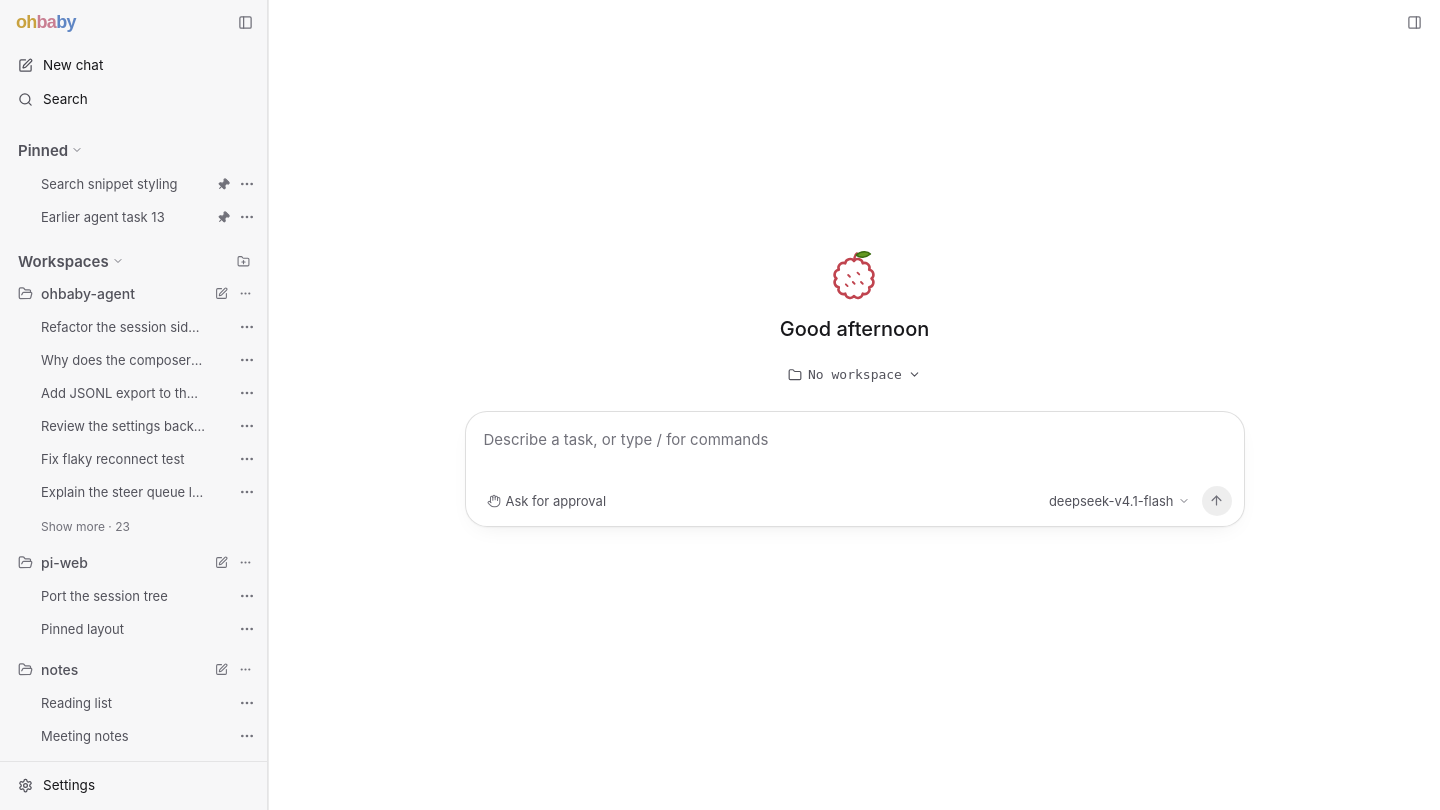
settings dialog › opens chat search with ctrlKey+K after settings closes
What coordinates should you click on to do the following:
click the button "Settings"
I would click on:
 (134, 785)
Its box is [8, 768, 259, 802].
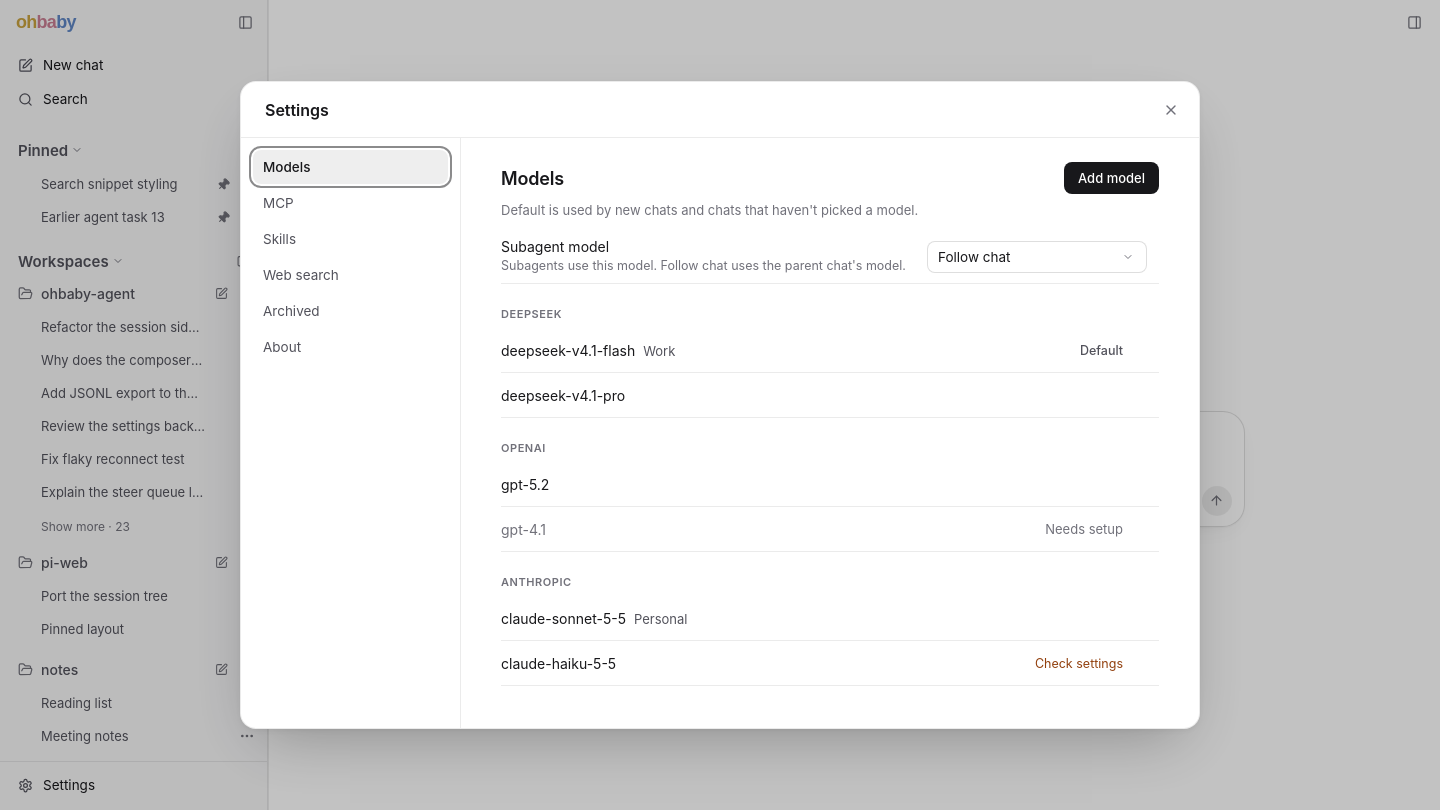
What coordinates should you click on to do the following:
click the button named "Close settings"
I would click on:
 (1171, 110)
Its box is [1157, 96, 1185, 124].
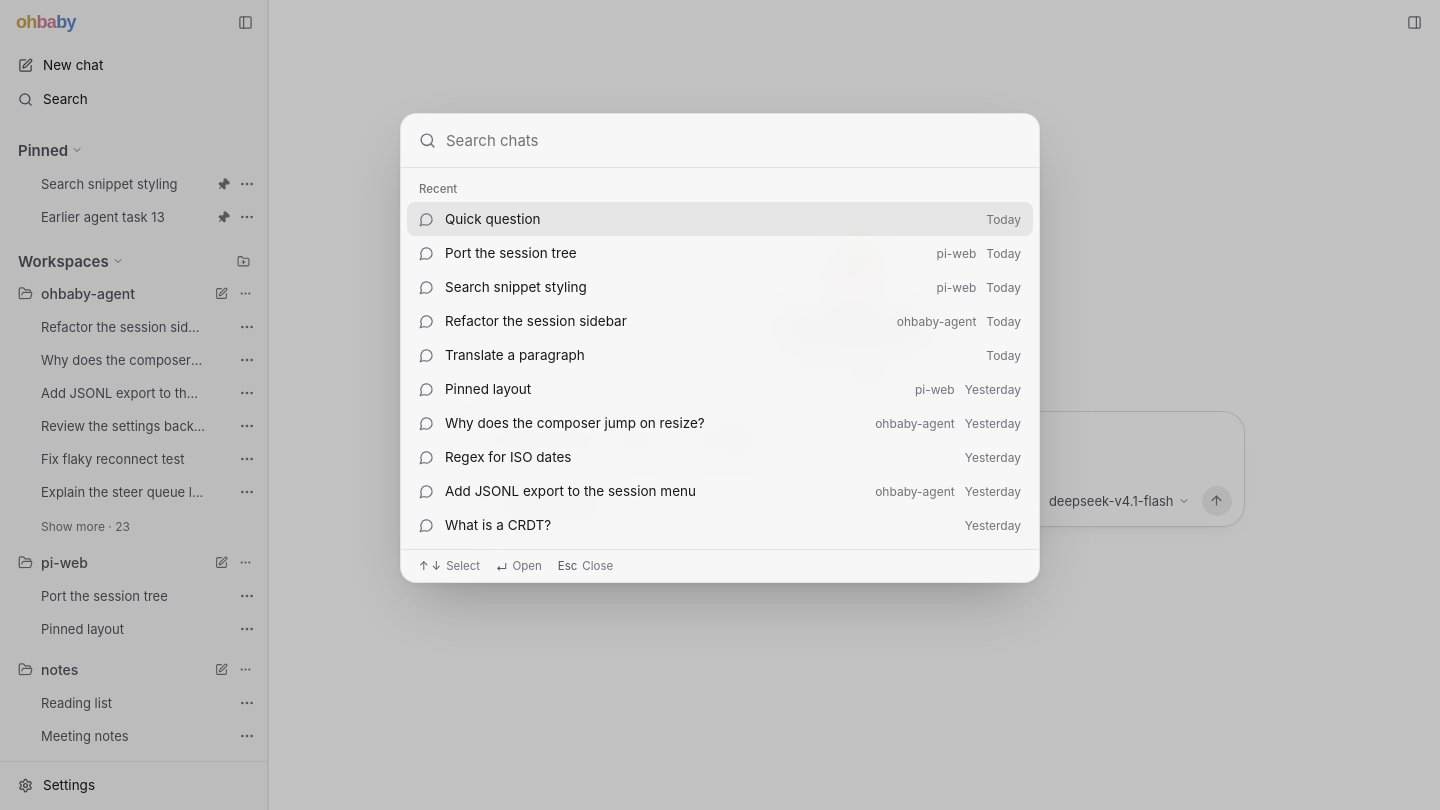
Now the dropdown with placeholder "Search chats" is shown, box [446, 131, 1025, 150]
